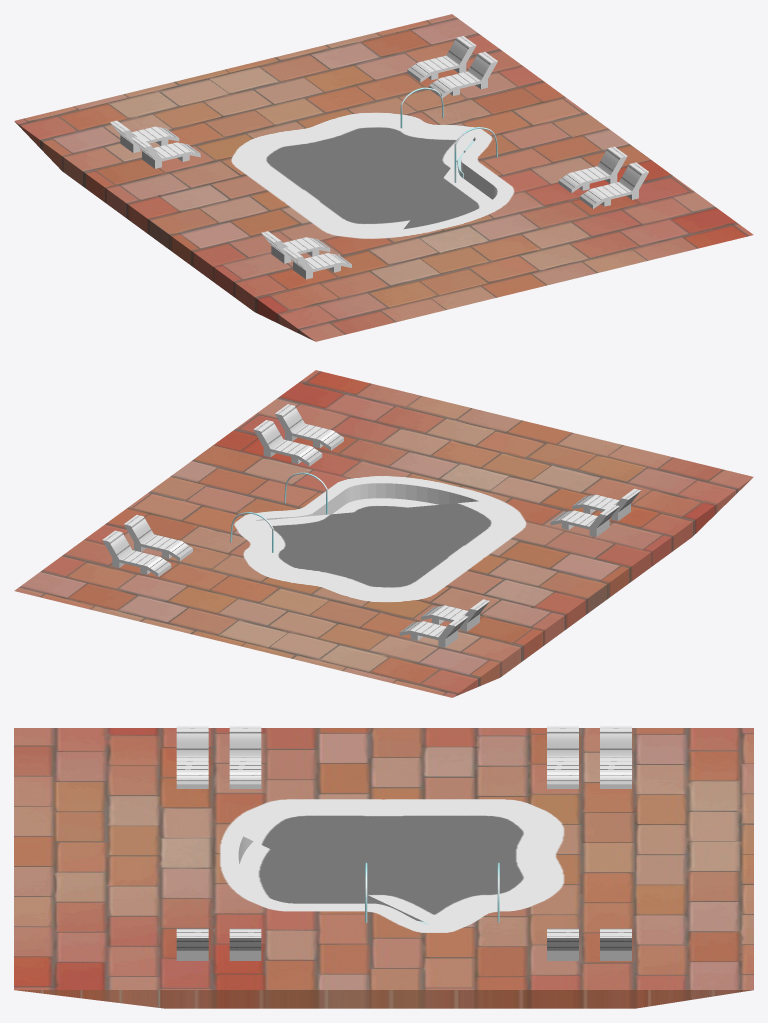
The model's file is Pool.fbx.
3 renders of one model, top to bottom at view 1: azimuth 30°, elevation 25°; view 2: azimuth 150°, elevation 25°; view 3: azimuth 270°, elevation 25°, orthographic. The views are drawn at different scales.
Parts seen in each view (by area): view 1: Cube.007, Cube.004, Cube.008, Cube.006, Cube.009, Cube.005, Cube.002, Cube.003, Cube.001; view 2: Cube.007, Cube.008, Cube.004, Cube.006, Cube.009, Cube.001, Cube.003, Cube.005, Cube.002; view 3: Cube.007, Cube.002, Cube.003, Cube.005, Cube.001, Cube.006, Cube.004, Cube.008, Cube.009.
Part boxes in pixels (x1=…): Cube.007: x1=14, y1=14, x2=753, y2=341; Cube.004: x1=558, y1=146, x2=627, y2=193; Cube.008: x1=407, y1=36, x2=476, y2=82; Cube.006: x1=580, y1=162, x2=648, y2=208; Cube.009: x1=429, y1=52, x2=497, y2=97; Cube.005: x1=132, y1=136, x2=200, y2=168; Cube.002: x1=283, y1=247, x2=351, y2=279; Cube.003: x1=261, y1=231, x2=330, y2=263; Cube.001: x1=110, y1=120, x2=179, y2=152; Cube.007: x1=14, y1=370, x2=753, y2=697; Cube.008: x1=102, y1=530, x2=171, y2=576; Cube.004: x1=253, y1=420, x2=322, y2=466; Cube.006: x1=275, y1=404, x2=343, y2=450; Cube.009: x1=124, y1=515, x2=192, y2=561; Cube.001: x1=399, y1=615, x2=468, y2=647; Cube.003: x1=550, y1=504, x2=619, y2=536; Cube.005: x1=421, y1=599, x2=489, y2=631; Cube.002: x1=572, y1=488, x2=640, y2=520; Cube.007: x1=14, y1=728, x2=753, y2=1008; Cube.002: x1=176, y1=726, x2=208, y2=788; Cube.003: x1=229, y1=726, x2=261, y2=788; Cube.005: x1=547, y1=726, x2=578, y2=788; Cube.001: x1=600, y1=726, x2=631, y2=788; Cube.006: x1=176, y1=928, x2=208, y2=960; Cube.004: x1=229, y1=928, x2=261, y2=960; Cube.008: x1=600, y1=928, x2=631, y2=960; Cube.009: x1=547, y1=928, x2=578, y2=960.
Bounding box in the file's own units: 5513 × 658 × 6578.
Materials: 1 (1 with a texture image).
